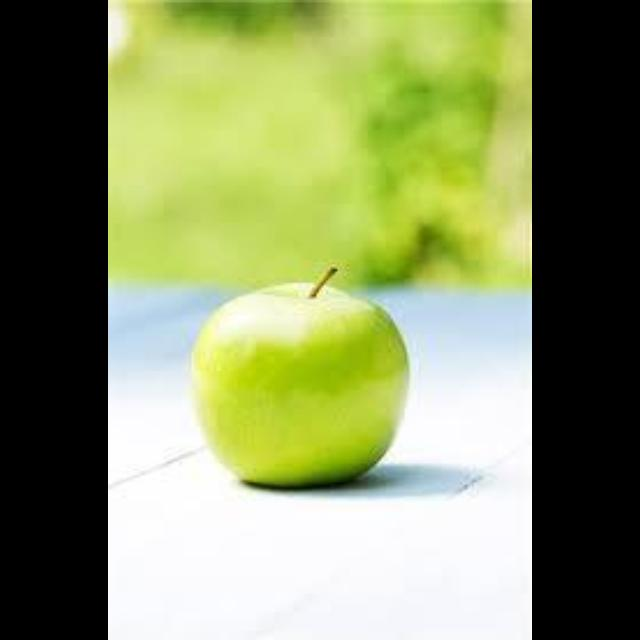apple: (191, 267, 407, 487)
